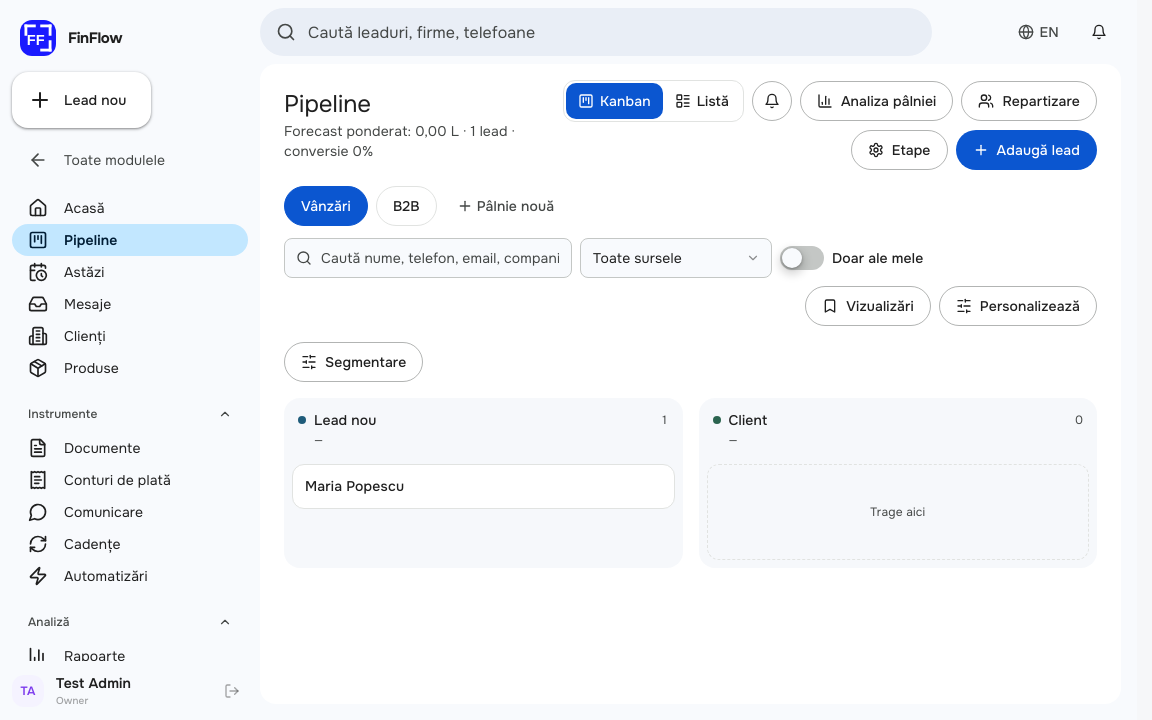
Scenario: Selectorul de pâlnie › [blocant] comutarea pe „B2B” cere serverului EXACT acea pâlnie, nu tabla implicită
Pâlniile sunt pastile, nu un select: se apasă pe cea dorită.
Click the button "B2B": (406, 206) [376,186,437,226]
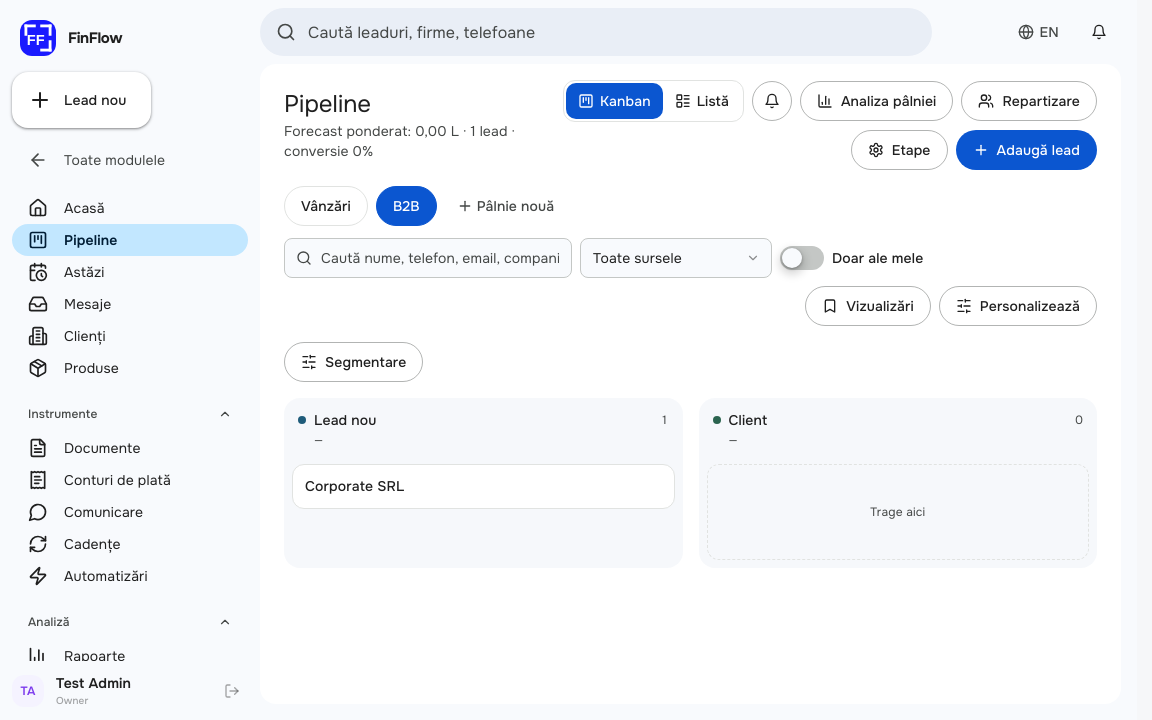
Now no buttons "Maria Popescu" are shown
